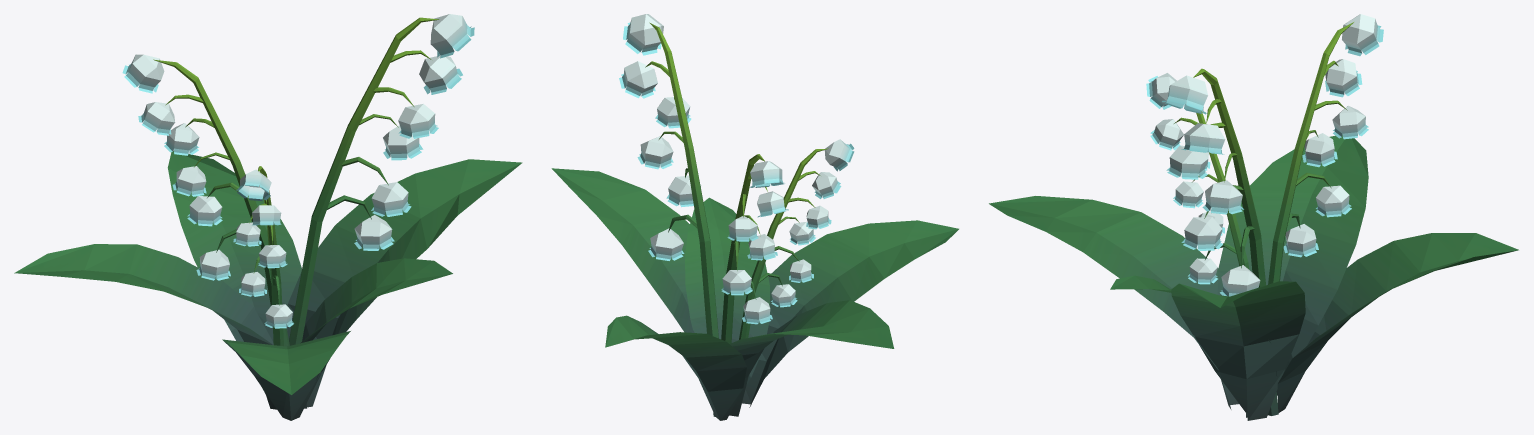
Rendered from 水中白色花.fbx.
3 views of the same model, side by side, from view 1: azimuth 30°, elevation 25°; view 2: azimuth 150°, elevation 25°; view 3: azimuth 270°, elevation 25° (orthographic). The views are drawn at different scales.
Visible parts, largest first — view 1: Flower.006_Base_Material_0; view 2: Flower.006_Base_Material_0; view 3: Flower.006_Base_Material_0.
Boxes of the visible parts, x1,y1,x2,y2 form: Flower.006_Base_Material_0: (14, 14, 522, 420); Flower.006_Base_Material_0: (551, 14, 958, 420); Flower.006_Base_Material_0: (989, 14, 1518, 420).
Size of the model in its own units: 310 by 257 by 310.
